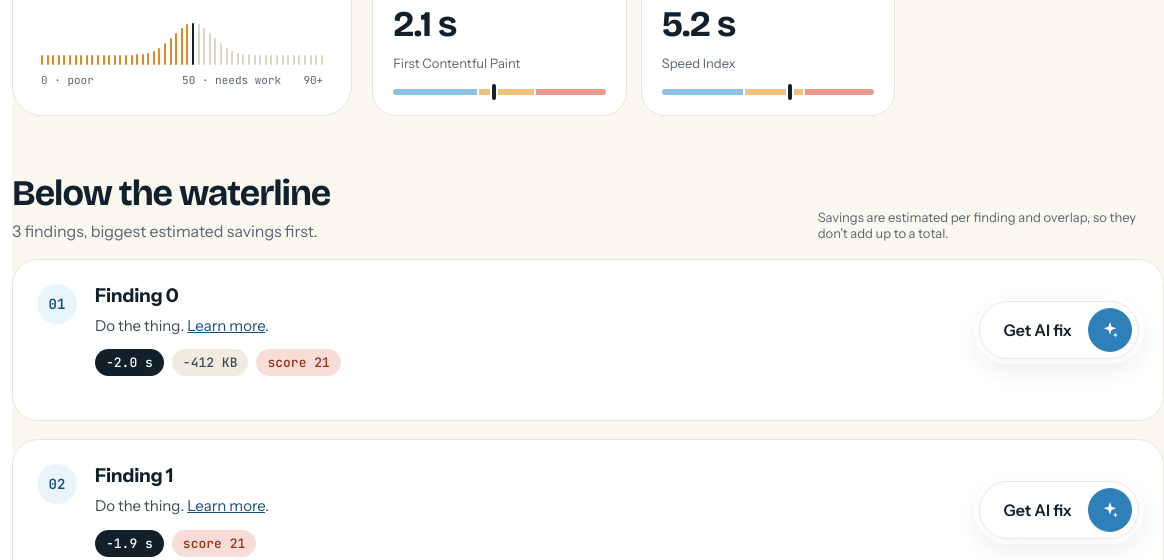
ReportPage › explains a 503 (AI not configured) inline
(page scrolled)
Step 1. Click the button with aria-label "Get AI fix for Finding 0" → (1059, 330), box [978, 301, 1139, 359]
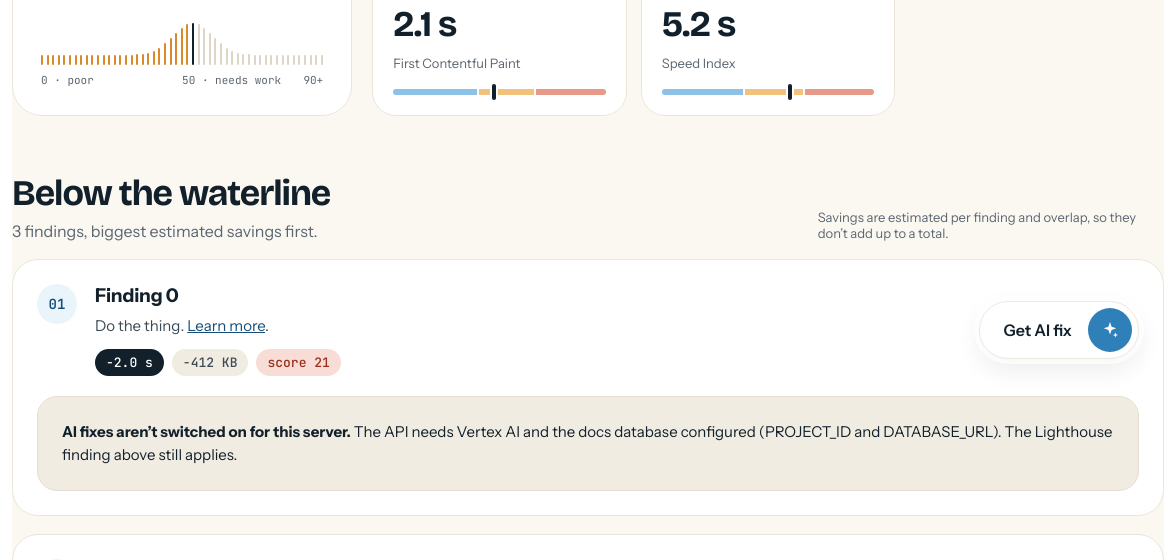
Check: the text "AI fixes aren’t switched on for this server." is shown, box [62, 422, 351, 441]
